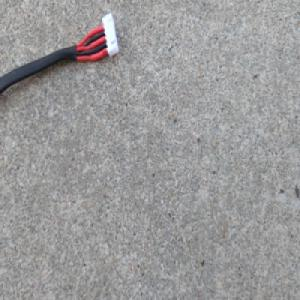Wire: (0, 10, 122, 103)
